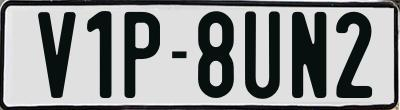1: (87, 10, 115, 99)
2: (335, 11, 374, 99)
8: (196, 11, 238, 99)
N: (291, 12, 329, 103)
P: (122, 10, 162, 102)
U: (244, 10, 283, 101)
V: (37, 9, 75, 96)
